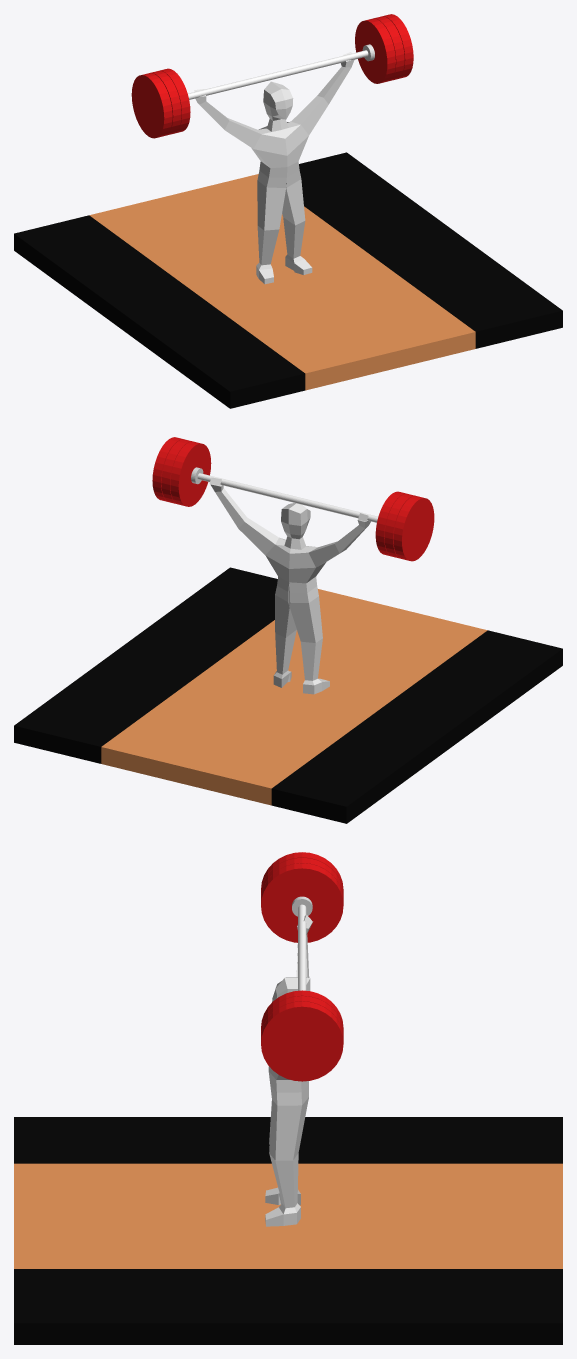
The model's file is weightlift.glb.
3 renders of one model, top to bottom at view 1: azimuth 30°, elevation 25°; view 2: azimuth 150°, elevation 25°; view 3: azimuth 270°, elevation 25°, orthographic. The views are drawn at different scales.
Parts seen in each view (by area): view 1: Cube.001, Cube, Cylinder.006, Cylinder.002, Cylinder, Cylinder.008, Cylinder.005, Cylinder.001, Cylinder.007; view 2: Cube.001, Cube, Cylinder.006, Cylinder.002, Cylinder, Cylinder.005, Cylinder.008, Cylinder.007, Cylinder.001; view 3: Cube.001, Cube, Cylinder.008, Cylinder.001, Cylinder.
Boxes of the visible parts, <box> form: Cube.001: <box>14,152,562,408</box>; Cube: <box>194,52,354,284</box>; Cylinder.006: <box>131,73,172,138</box>; Cylinder.002: <box>355,18,395,83</box>; Cylinder: <box>188,50,368,99</box>; Cylinder.008: <box>383,14,413,78</box>; Cylinder.005: <box>150,70,181,135</box>; Cylinder.001: <box>160,68,190,133</box>; Cylinder.007: <box>374,16,404,80</box>; Cube.001: <box>14,567,562,823</box>; Cube: <box>209,477,370,694</box>; Cylinder.006: <box>393,496,434,561</box>; Cylinder.002: <box>170,441,211,506</box>; Cylinder: <box>197,473,378,522</box>; Cylinder.005: <box>384,493,415,558</box>; Cylinder.008: <box>152,437,183,501</box>; Cylinder.007: <box>161,439,191,503</box>; Cylinder.001: <box>375,491,405,556</box>; Cube.001: <box>14,1117,562,1344</box>; Cube: <box>265,914,312,1226</box>; Cylinder.008: <box>261,1001,343,1081</box>; Cylinder.001: <box>261,863,343,942</box>; Cylinder: <box>298,904,306,990</box>.
Size of the model in its own units: 19.89 by 13.76 by 22.38.
